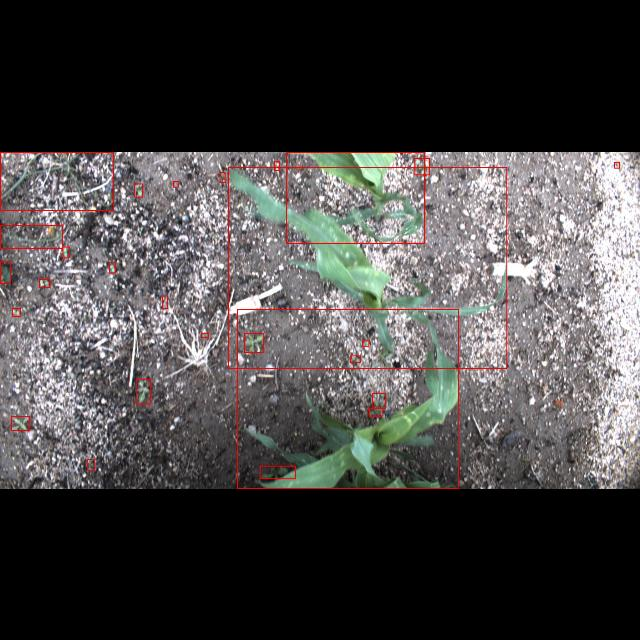crop: (228, 166, 508, 368), (237, 308, 458, 488), (286, 152, 424, 242)
weed: (0, 151, 114, 209), (0, 225, 62, 248), (260, 466, 296, 478), (244, 332, 264, 352), (136, 378, 150, 404), (414, 158, 430, 175), (12, 416, 30, 430), (372, 392, 386, 408), (0, 262, 10, 282), (134, 182, 142, 195), (62, 246, 70, 258), (370, 408, 382, 416), (39, 279, 50, 287), (162, 296, 168, 308), (12, 308, 20, 316), (88, 460, 94, 470), (351, 355, 361, 361), (109, 262, 115, 272), (274, 160, 280, 170), (220, 171, 224, 181), (363, 340, 369, 346), (202, 332, 208, 338), (614, 161, 620, 167), (174, 180, 178, 186)
